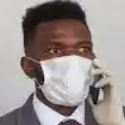with_facemask: (43, 60, 95, 100)
